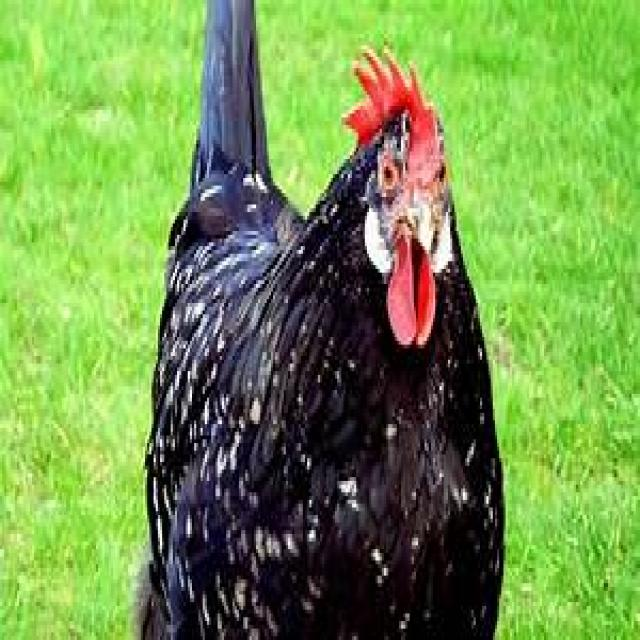chicken: (147, 49, 504, 640)
